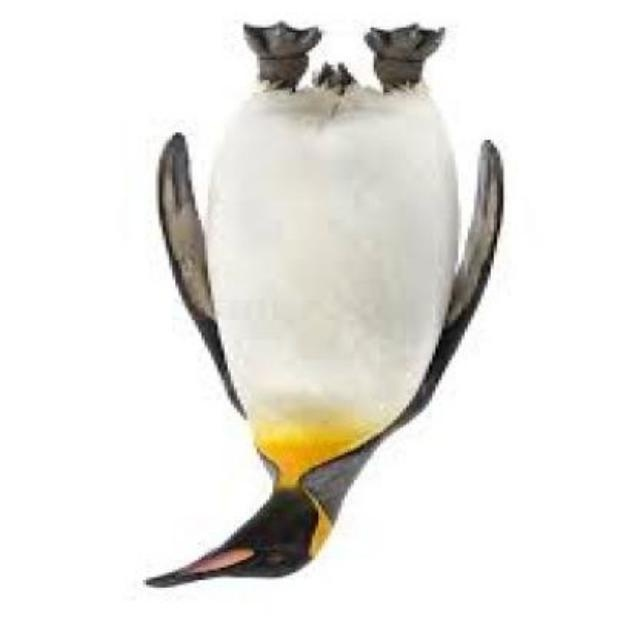penguin: (140, 19, 506, 589)
